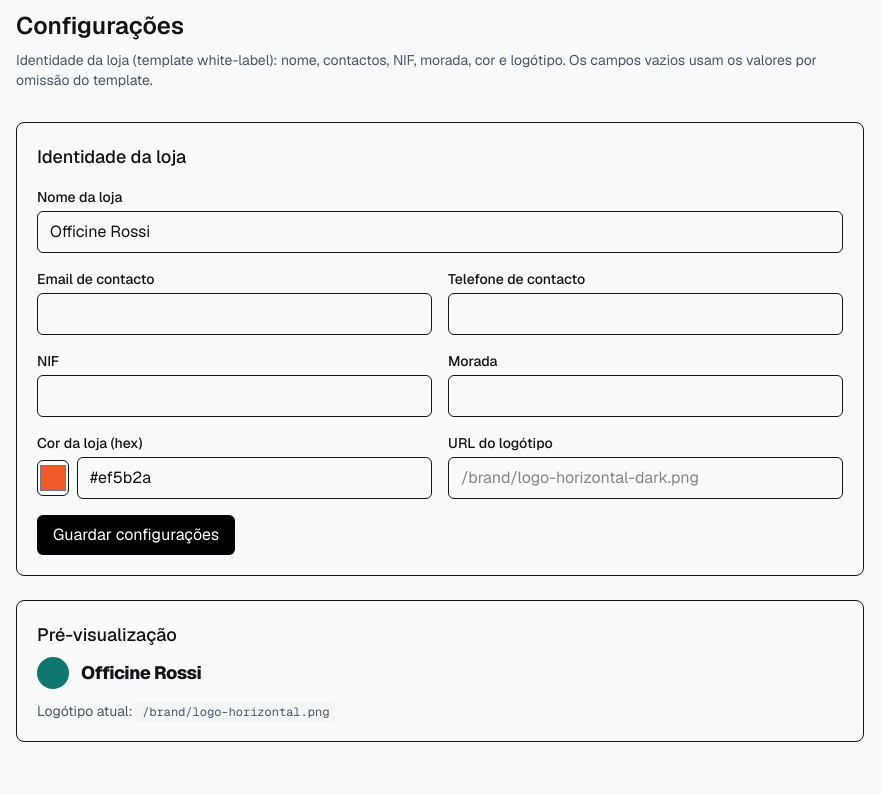
Test: admin settings page (white-label) › mostra o erro de validação da API (400)
This screenshot has width=881, height=795.
Type "cor-laranja" into the field labelled "Cor da loja (hex)" at (255, 478), box [77, 457, 432, 499]
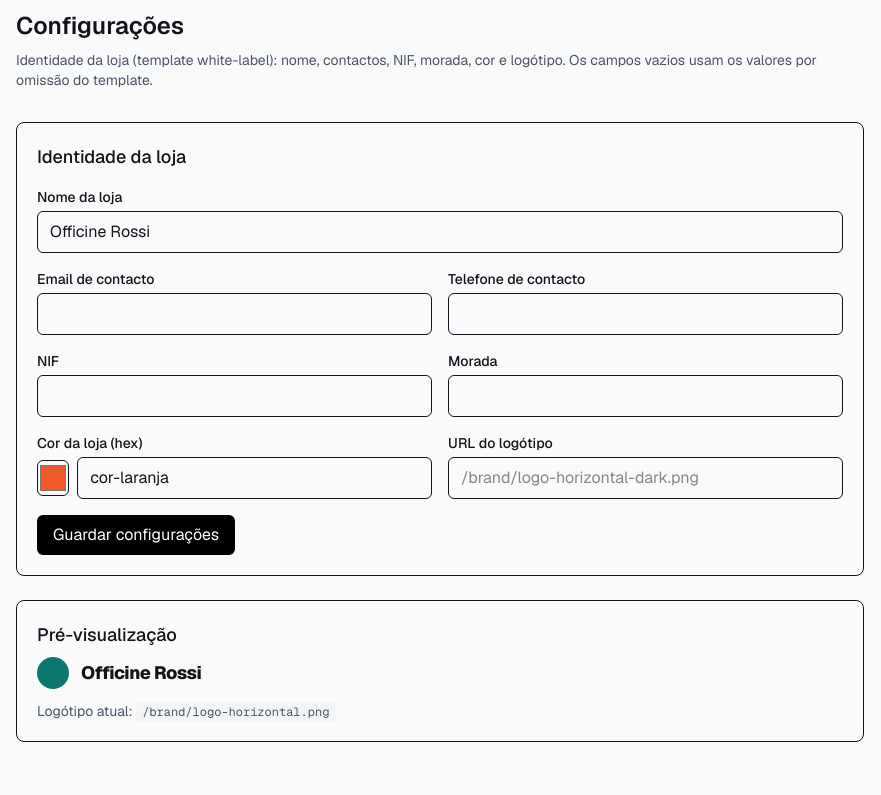
Click the button "Guardar configurações" at (136, 535), box [37, 515, 235, 555]
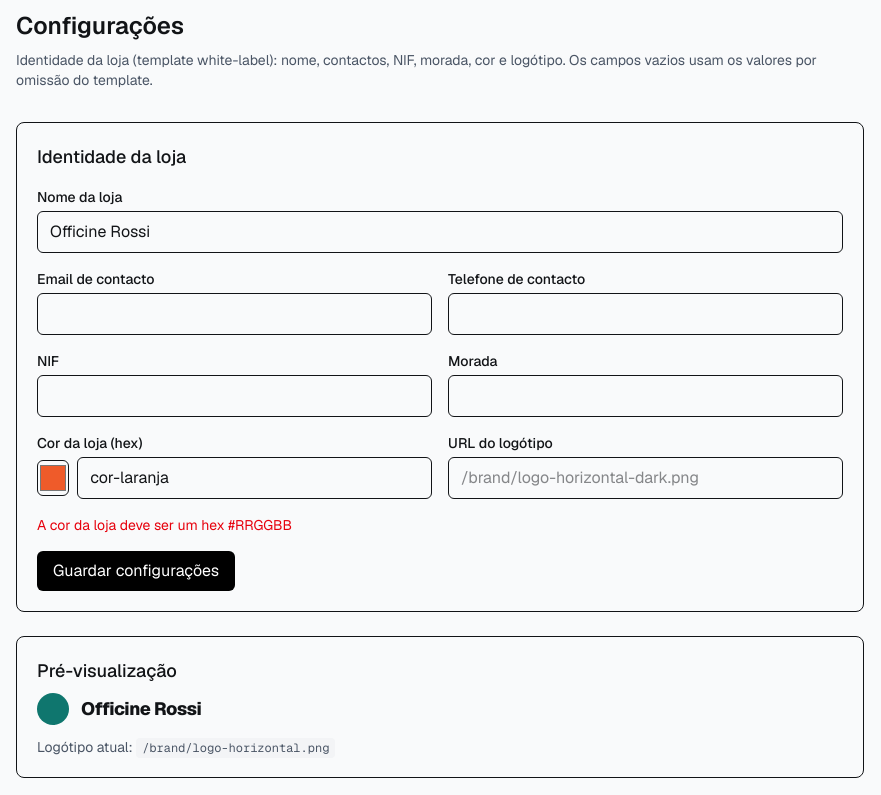
Expected: the message reads "A cor da loja deve ser um hex #RRGGBB", [37, 516, 292, 534]
